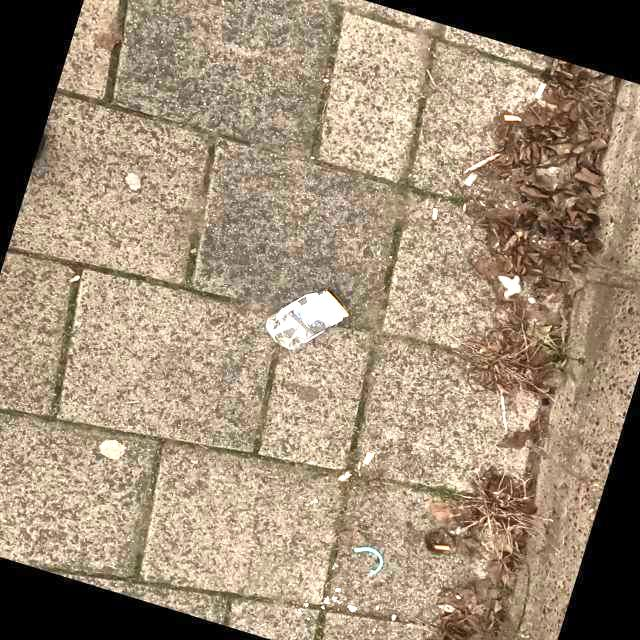Paper: (262, 286, 352, 352)
